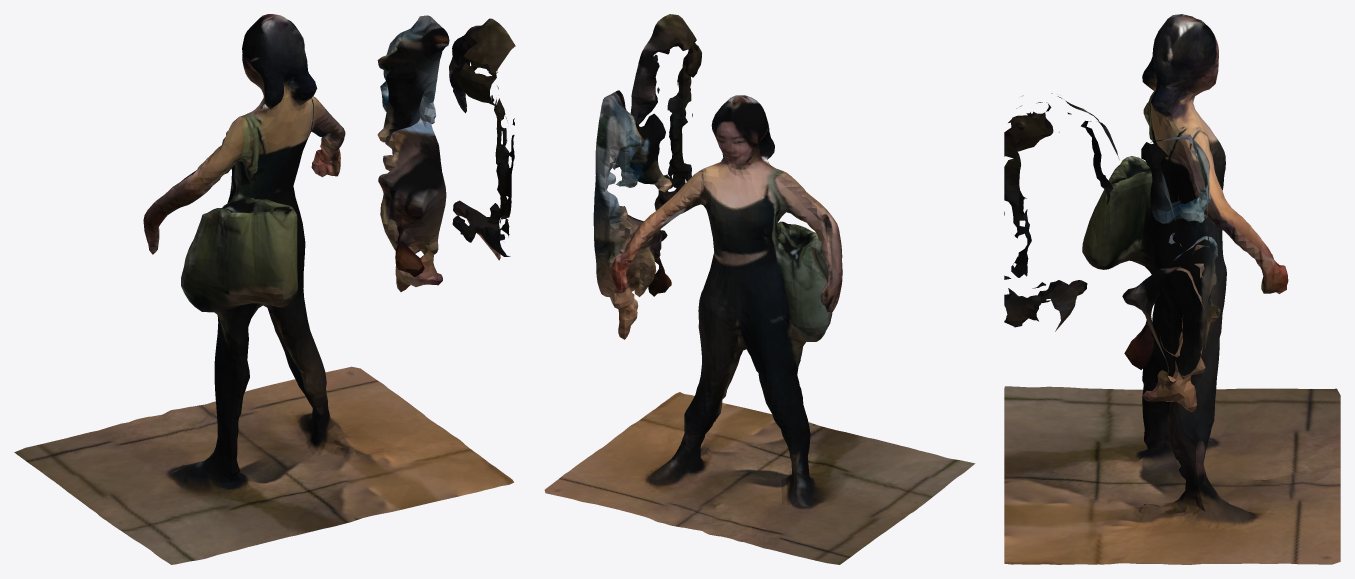
The model's file is max2_friends_zoe.glb.
3 views of the same model, side by side, from view 1: azimuth 30°, elevation 25°; view 2: azimuth 150°, elevation 25°; view 3: azimuth 270°, elevation 25° (orthographic). The views are drawn at different scales.
Bounding box in the file's own units: 1.31 × 1.64 × 1.05.
1 material, 1 textured.
